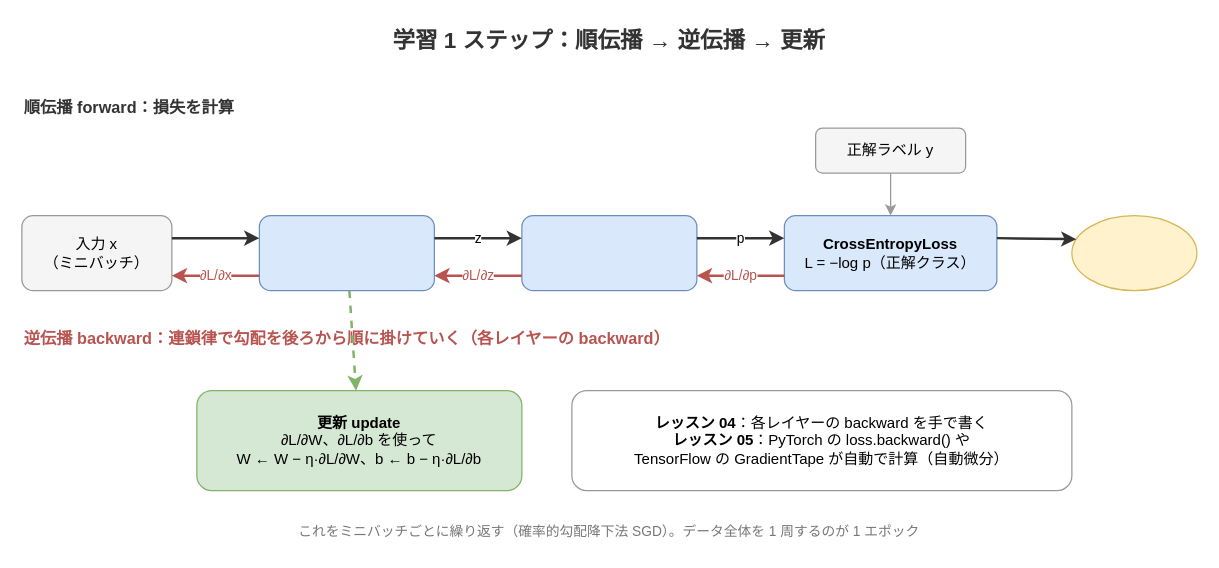
This 1219x568 diagram has some shape labels left out. The centre of each missing label's shape, as x and y in pixels:
Linear z = xWᵀ + b: the point at 346,252
Softmax p = σ(z): the point at 609,252
損失 L: the point at 1134,252
